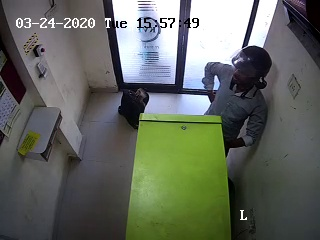helmet: (231, 46, 277, 92)
